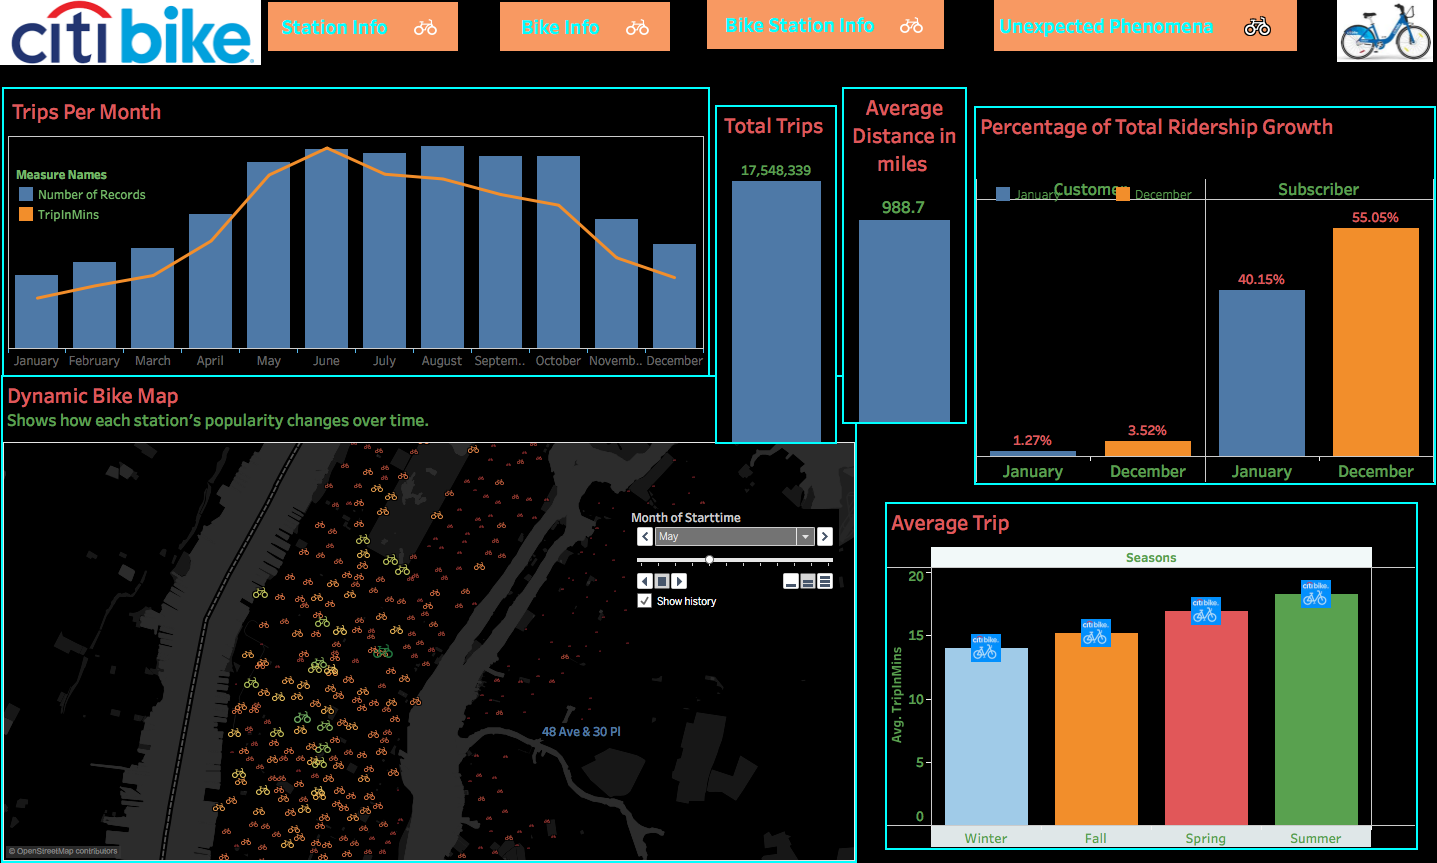

This screenshot's page, from the dashboard's own definition file:
{"tool":"tableau","page":{"name":"Home Page","canvas":[1000,1000],"units":"permille","ordinal":2},"visuals":[{"type":"image","param":"/Users/minaljajoo/Documents/My Tableau Repository/Shapes/custom/actual_bike.jpeg","box":[930.8,5.2,66.7,120.1]},{"type":"image","param":"/Users/minaljajoo/Documents/My Tableau Repository/Shapes/custom/logo.png","box":[1.6,6.9,182.3,92.6]},{"type":"worksheet","title":"btnUnexpPheno","mark":"Shape","rows":["Calculation_211458106548850692"],"box":[692.4,6.9,257.9,101.2]},{"type":"worksheet","title":"btnBikeStationInfo ","mark":"Shape","rows":["Calculation_211458106548715523"],"box":[493.1,8.6,194.5,87.5]},{"type":"worksheet","title":"btnStationInfo","mark":"Shape","rows":["Calculation_211458106548600834"],"box":[188,10.3,169.2,109.8]},{"type":"worksheet","title":"btnBikeInfo","mark":"Shape","rows":["Calculation_211458106548453377"],"box":[349.1,10.3,148.1,89.2]},{"type":"worksheet","title":"Avg distance","mark":"Bar","rows":["tripduration"],"box":[587,108.1,86.6,387.7]},{"type":"worksheet","title":"Trips Per Month","mark":"Automatic","rows":["Number of Records","Calculation_46021188260364293"],"cols":["starttime"],"box":[5.4,110.5,488.3,327.8]},{"type":"worksheet","title":"Total Trips","mark":"Automatic","rows":["Number of Records"],"box":[498.7,128.6,84.4,389.4]},{"type":"worksheet","title":"ridership growth 2018","mark":"Bar","rows":["Number of Records"],"cols":["usertype","starttime"],"box":[678.5,130.4,320.7,435.7]},{"type":"legend","title":"Trips Per Month","param":"[federated.14ladbp1xfaqif180skau13ugwz1].[:Measure Names]","box":[13.2,199,129.7,113.2]},{"type":"legend","title":"ridership growth 2018","param":"[federated.14ladbp1xfaqif180skau13ugwz1].[mn:starttime:ok]","box":[691.7,199,260.5,54.9]},{"type":"worksheet","title":"Dynamic Bike Map","mark":"Shape","rows":["start station latitude"],"cols":["start station longitude"],"box":[2.4,439.1,594.8,560.9]},{"type":"worksheet","title":"Average Trip","mark":"Automatic","rows":["Calculation_46021188260364293","Calculation_46021188260364293"],"cols":["Calculation_46021188258996228"],"box":[616.8,584.9,370.2,399.7]},{"type":"currpage","title":"Dynamic Bike Map","box":[440.5,593,144.4,166.4]}]}

Visuals, with their boxes on the dashboard's canvas, which has no fixed pixel size, in thousandths of its width and height (x1, y1, x2, y2). These are canvas units, not pixel positions in the 1437x863 screenshot, which may show the page scaled, cropped or inside an application window:
image: 931:5:998:125
image: 2:7:184:100
"btnUnexpPheno" worksheet (Shape marks): 692:7:950:108
"btnBikeStationInfo " worksheet (Shape marks): 493:9:688:96
"btnStationInfo" worksheet (Shape marks): 188:10:357:120
"btnBikeInfo" worksheet (Shape marks): 349:10:497:100
"Avg distance" worksheet (Bar marks): 587:108:674:496
"Trips Per Month" worksheet: 5:110:494:438
"Total Trips" worksheet: 499:129:583:518
"ridership growth 2018" worksheet (Bar marks): 678:130:999:566
"Trips Per Month" legend: 13:199:143:312
"ridership growth 2018" legend: 692:199:952:254
"Dynamic Bike Map" worksheet (Shape marks): 2:439:597:1000
"Average Trip" worksheet: 617:585:987:985
"Dynamic Bike Map" currpage: 440:593:585:759
